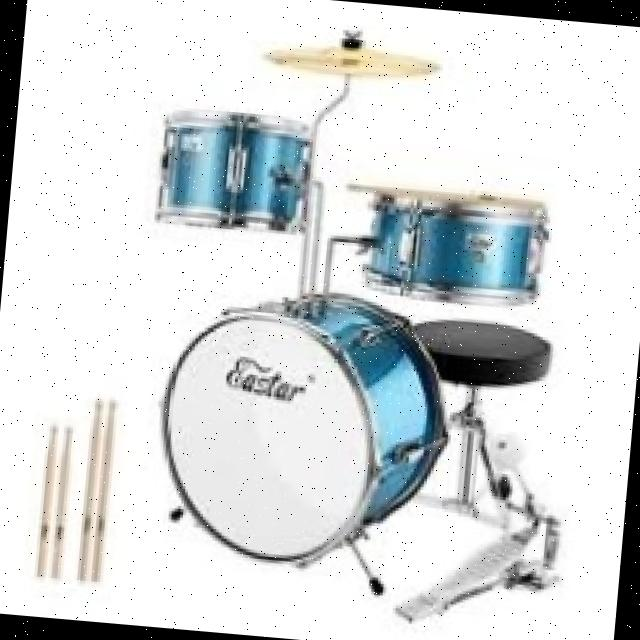drums: (120, 11, 607, 620)
